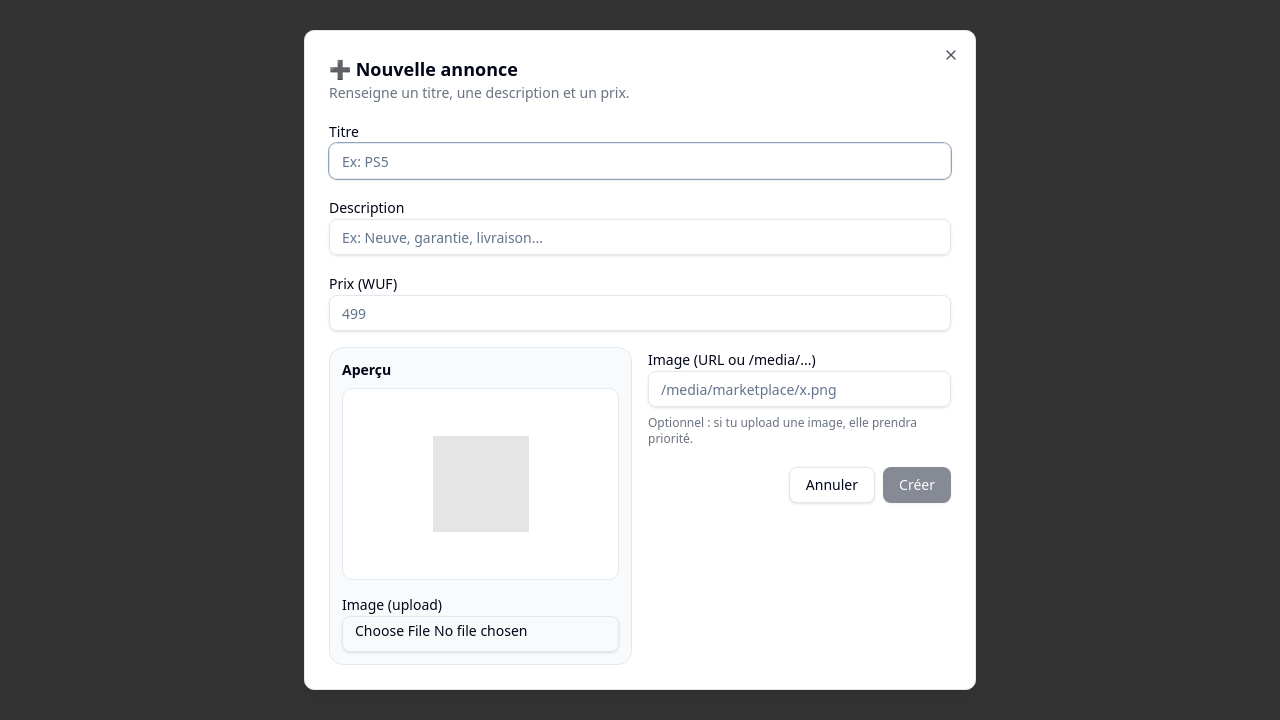
it: CreateListingDialog › keeps creation disabled until a title and a positive price are entered
The width and height of the screenshot is (1280, 720).
Check: the button "Créer" is disabled, box [883,467,951,503]
Type "Console" into the field with placeholder "Ex: PS5" at (640, 161), box [329,143,951,179]
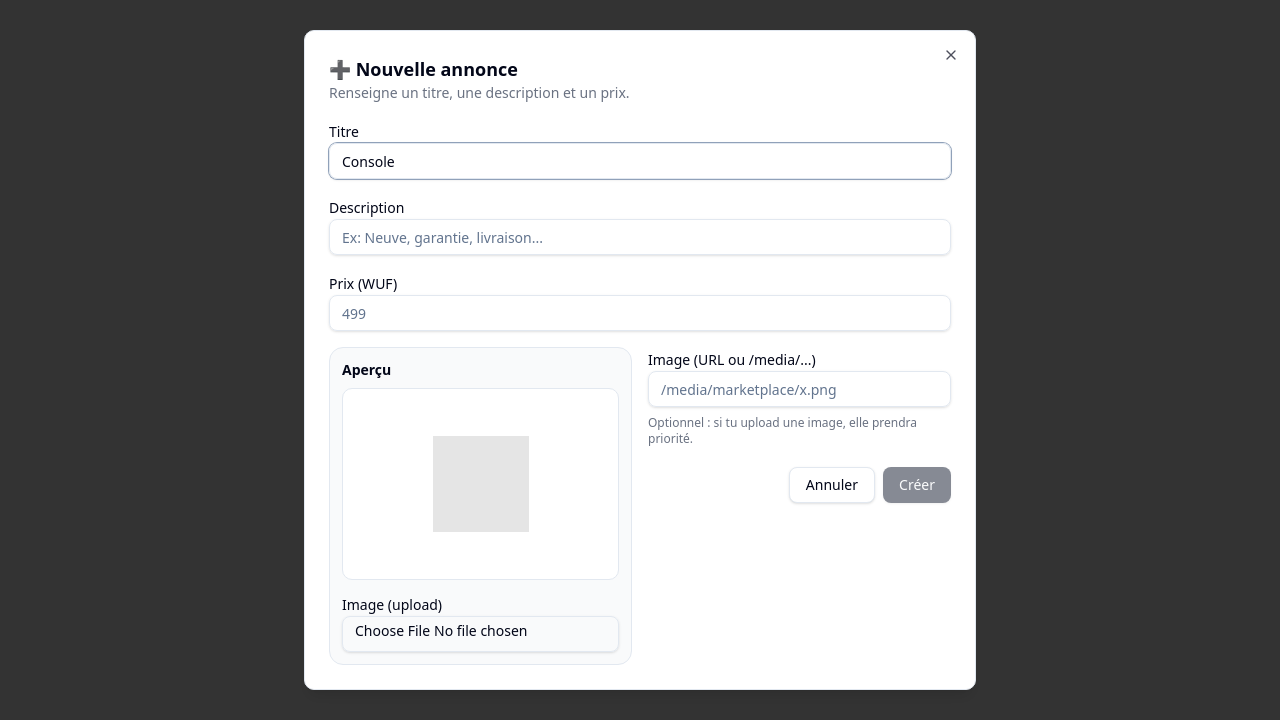
Type "0" into the number field with placeholder "499" at (640, 313), box [329,295,951,331]
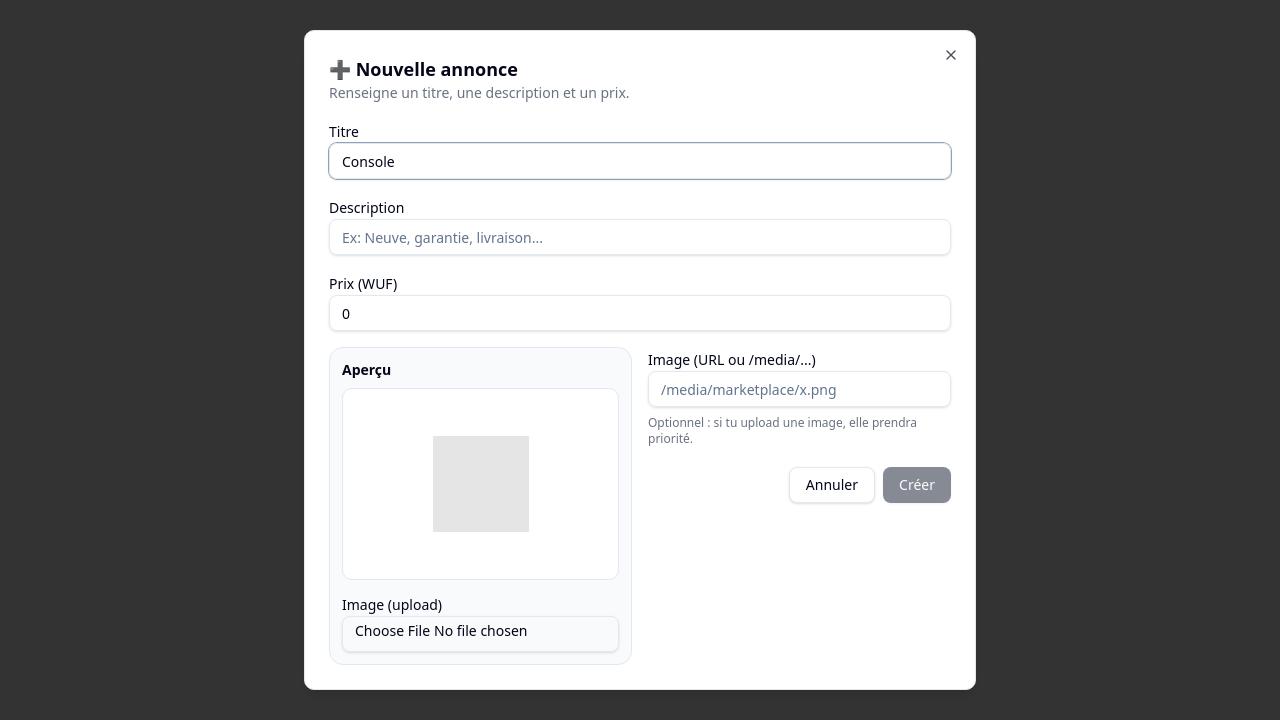
Check: the button "Créer" is disabled, box [883,467,951,503]
Replace the text in the number field with placeholder "499" with "499" at (640, 313), box [329,295,951,331]
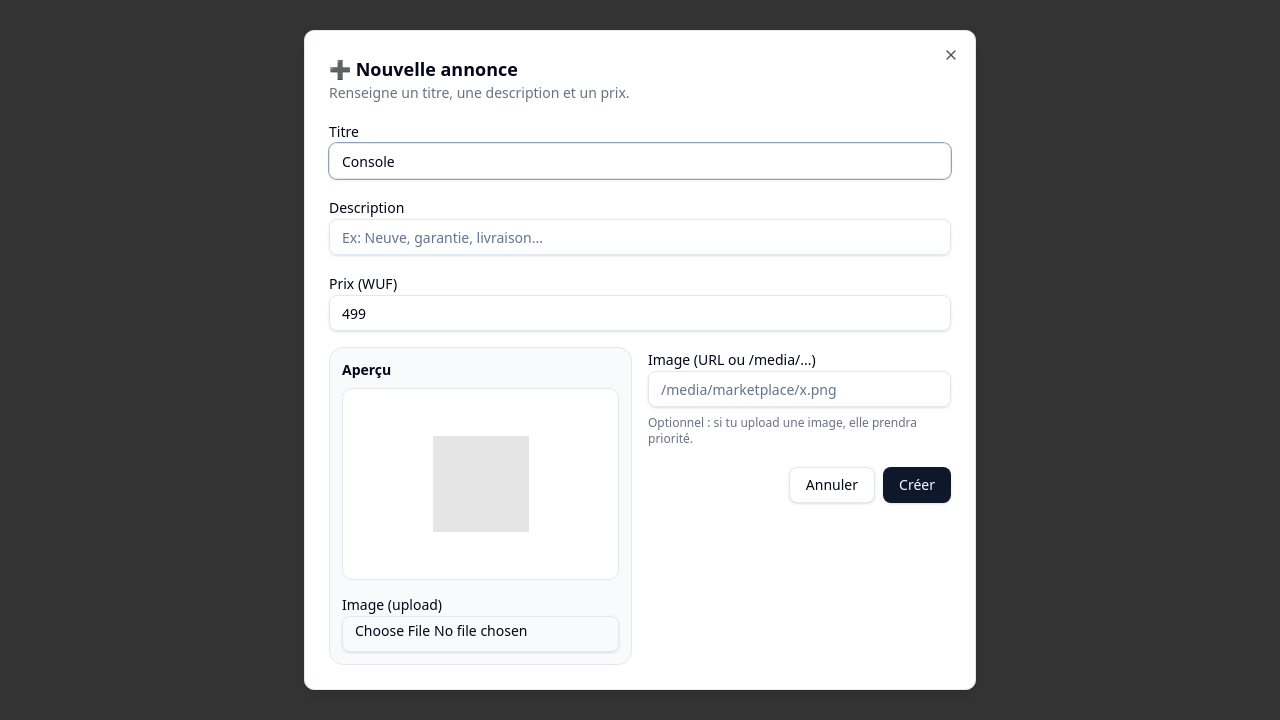
Check: the button "Créer" is enabled, box [883,467,951,503]
